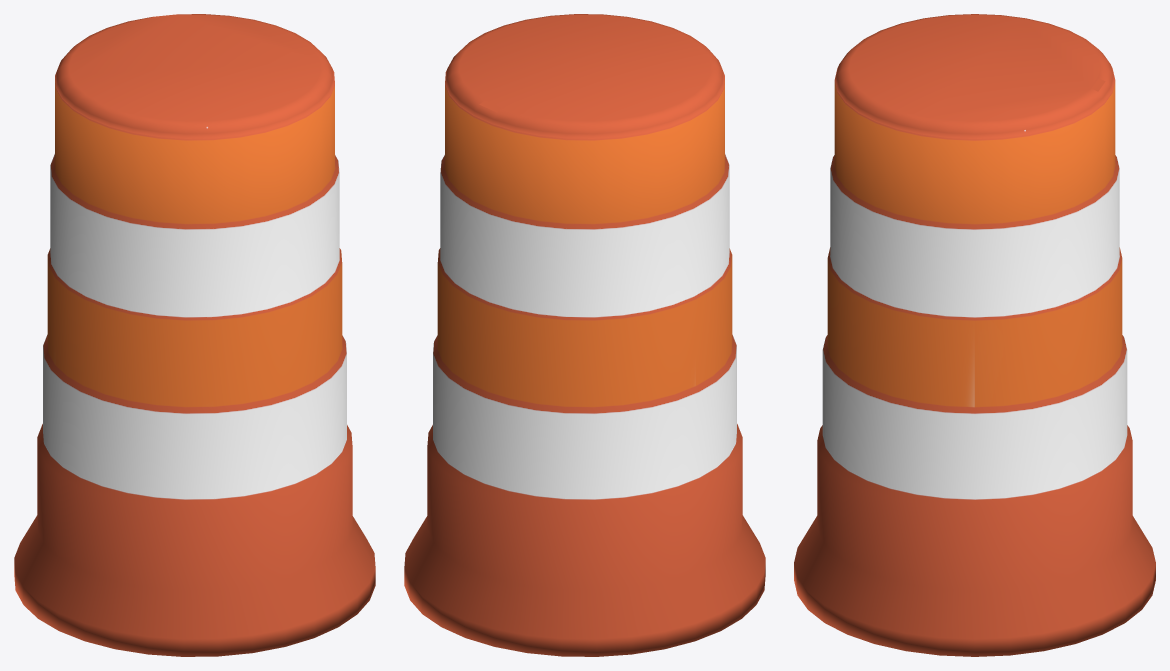
File: barrel.dae
The picture shows the model from 3 angles, left to right: view 1: azimuth 30°, elevation 25°; view 2: azimuth 150°, elevation 25°; view 3: azimuth 270°, elevation 25°; orthographic projection.
Parts seen in each view (by area): view 1: Cylinder; view 2: Cylinder; view 3: Cylinder.
Boxes of the visible parts, box(x1,y1,x2,y2) form: Cylinder: box(14, 14, 375, 656); Cylinder: box(404, 14, 765, 656); Cylinder: box(794, 14, 1155, 656).
Size of the model in its own units: 0.5827 by 0.5827 by 0.9103.
Materials: 1 (1 with a texture image).
